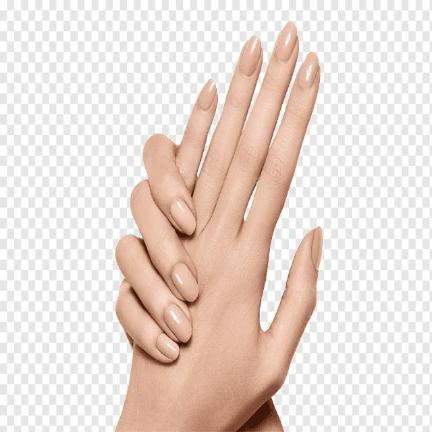Nail: (171, 263, 200, 302), (164, 304, 192, 343), (170, 199, 196, 236), (274, 21, 297, 61), (240, 36, 261, 75), (299, 52, 318, 88), (156, 333, 179, 359), (199, 79, 216, 110), (312, 227, 322, 270)
